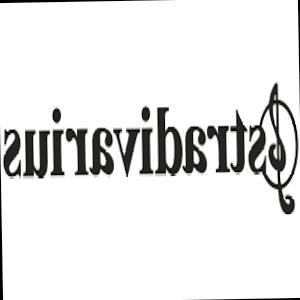stradivarius: (0, 70, 300, 220)
